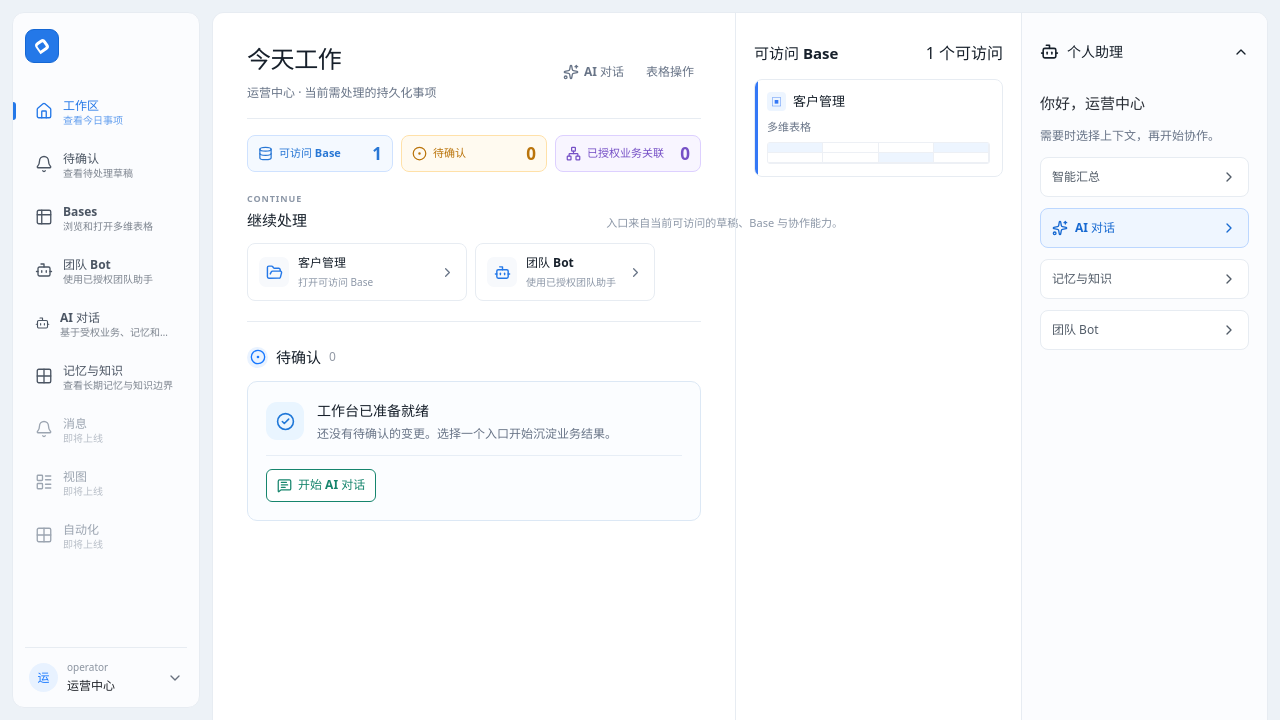
it: switching workspace discards the previous Home and loads the selected authorized Home
Expected: the link "▣ 客户管理 多维表格" is shown, [754,79,1003,177]
Select "项目中心" in the dropdown named "切换工作区（桌面）". click: (112, 686)
box: [67,677,158,695]
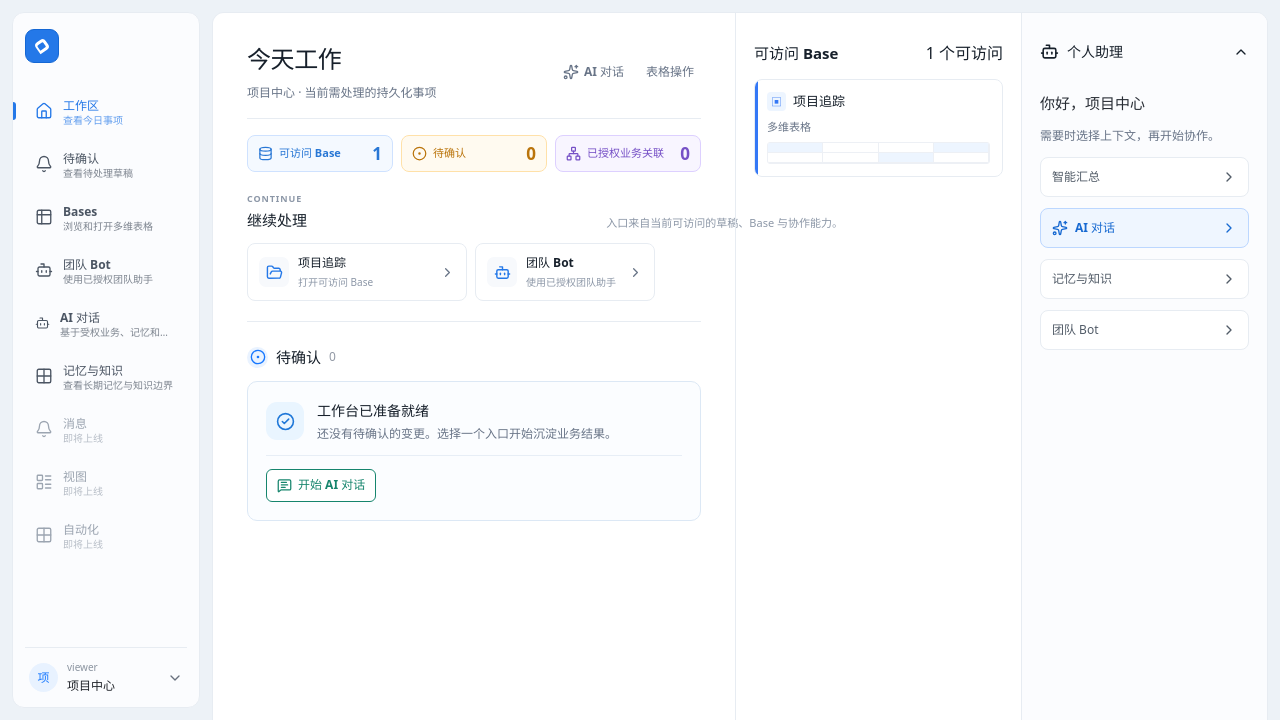
Now the link "▣ 项目追踪 多维表格" is shown, box [754,79,1003,177]
Now the button "客户管理" is gone
